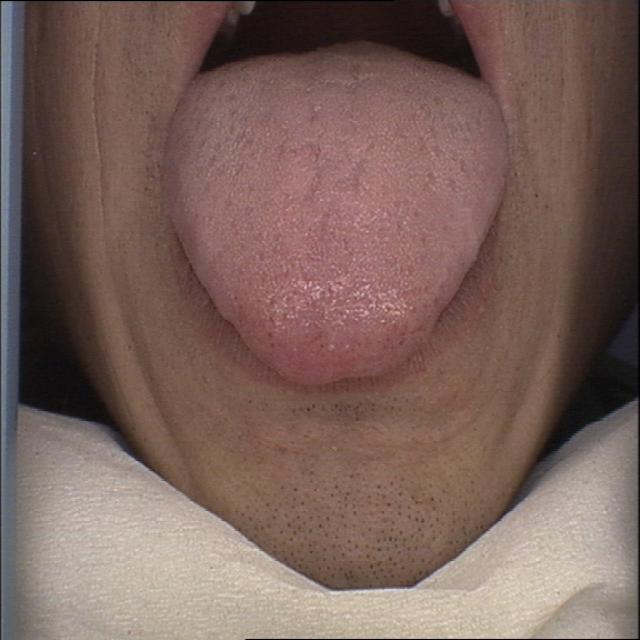tongue: (153, 45, 518, 388)
